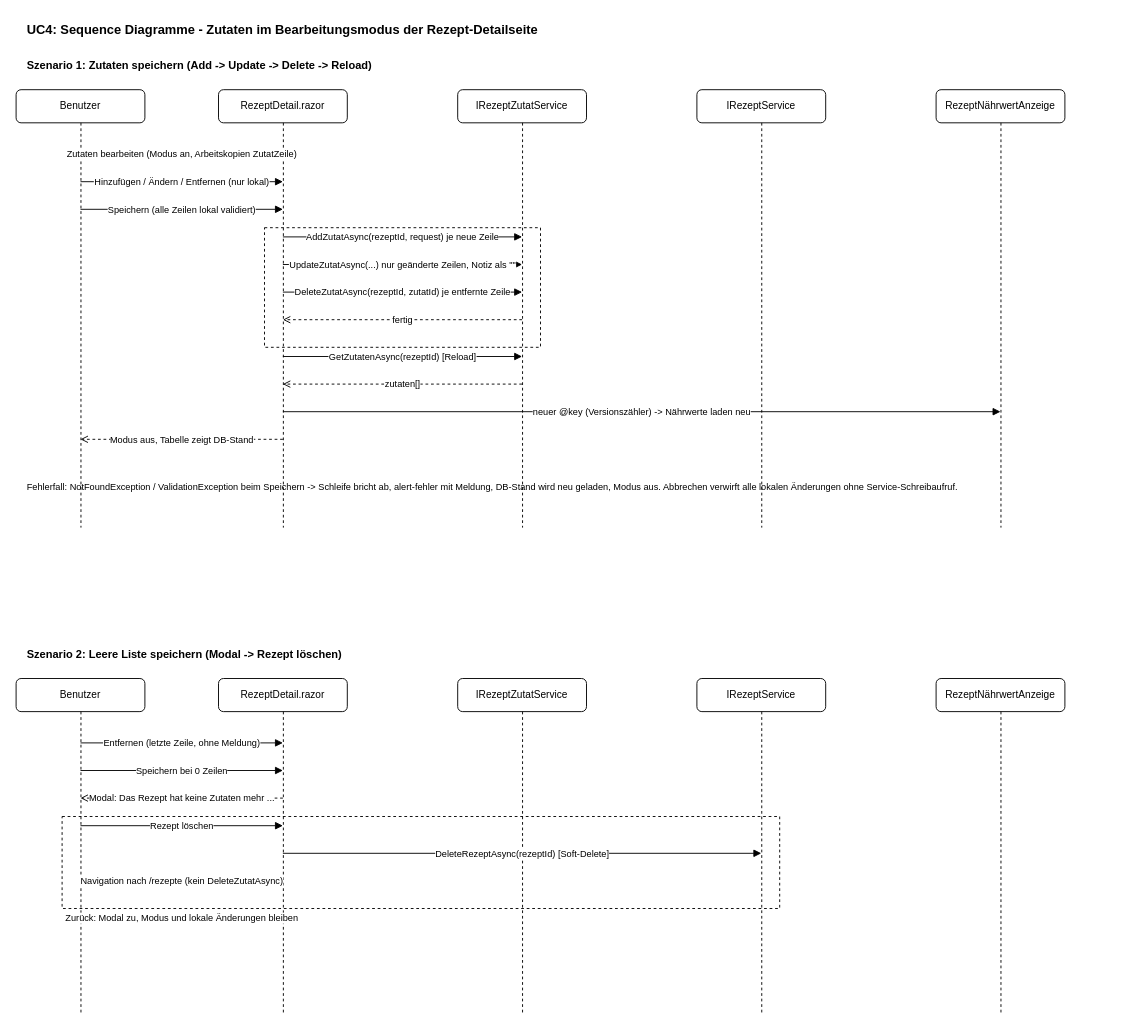
Some shapes in this 1145 by 1031 pixel diagram are drawn without their labels. Here are the shapes that lost their labels. From the top down, the centre of each, then its label:
pixel 402 287: feste Reihenfolge
pixel 420 862: alt
